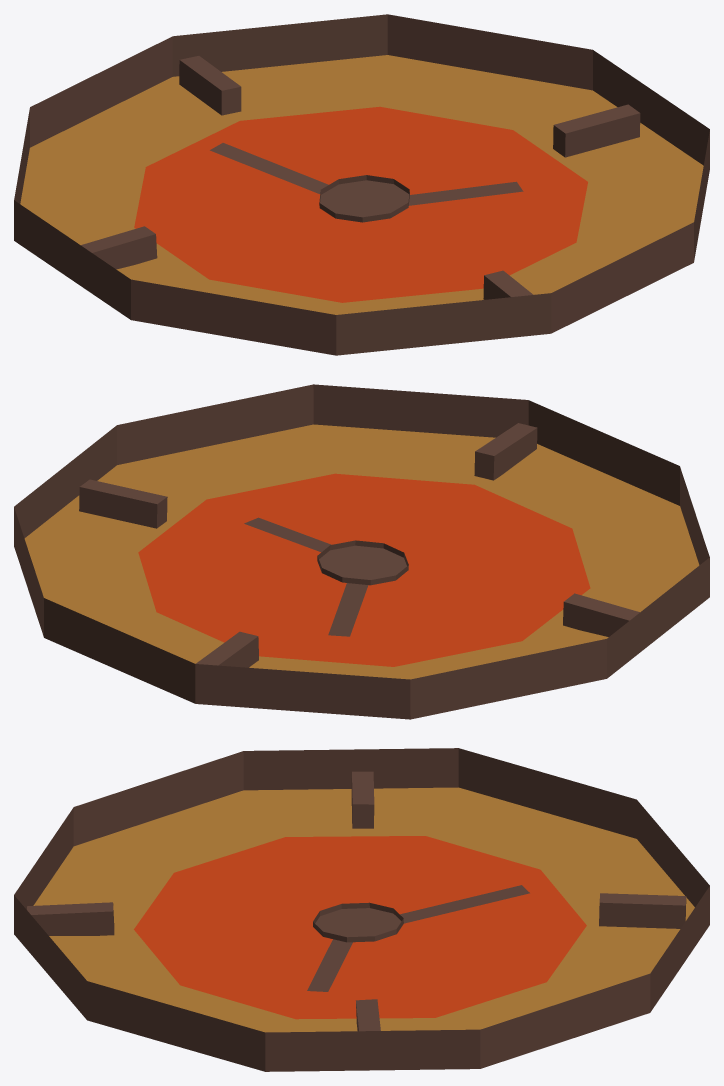
The model's file is clock.gltf.
3 renders of one model, top to bottom at view 1: azimuth 30°, elevation 25°; view 2: azimuth 150°, elevation 25°; view 3: azimuth 270°, elevation 25°, orthographic. The views are drawn at different scales.
Parts seen in each view (by area): view 1: node_MeshObject-1477125248-PolyPaper20; view 2: node_MeshObject-1477125248-PolyPaper20; view 3: node_MeshObject-1477125248-PolyPaper20.
Part boxes in pixels (x1=…): node_MeshObject-1477125248-PolyPaper20: x1=14, y1=14, x2=709, y2=355; node_MeshObject-1477125248-PolyPaper20: x1=14, y1=384, x2=709, y2=719; node_MeshObject-1477125248-PolyPaper20: x1=14, y1=748, x2=709, y2=1071.
Size of the model in its own units: 0.2282 by 0.0197 by 0.2374.
